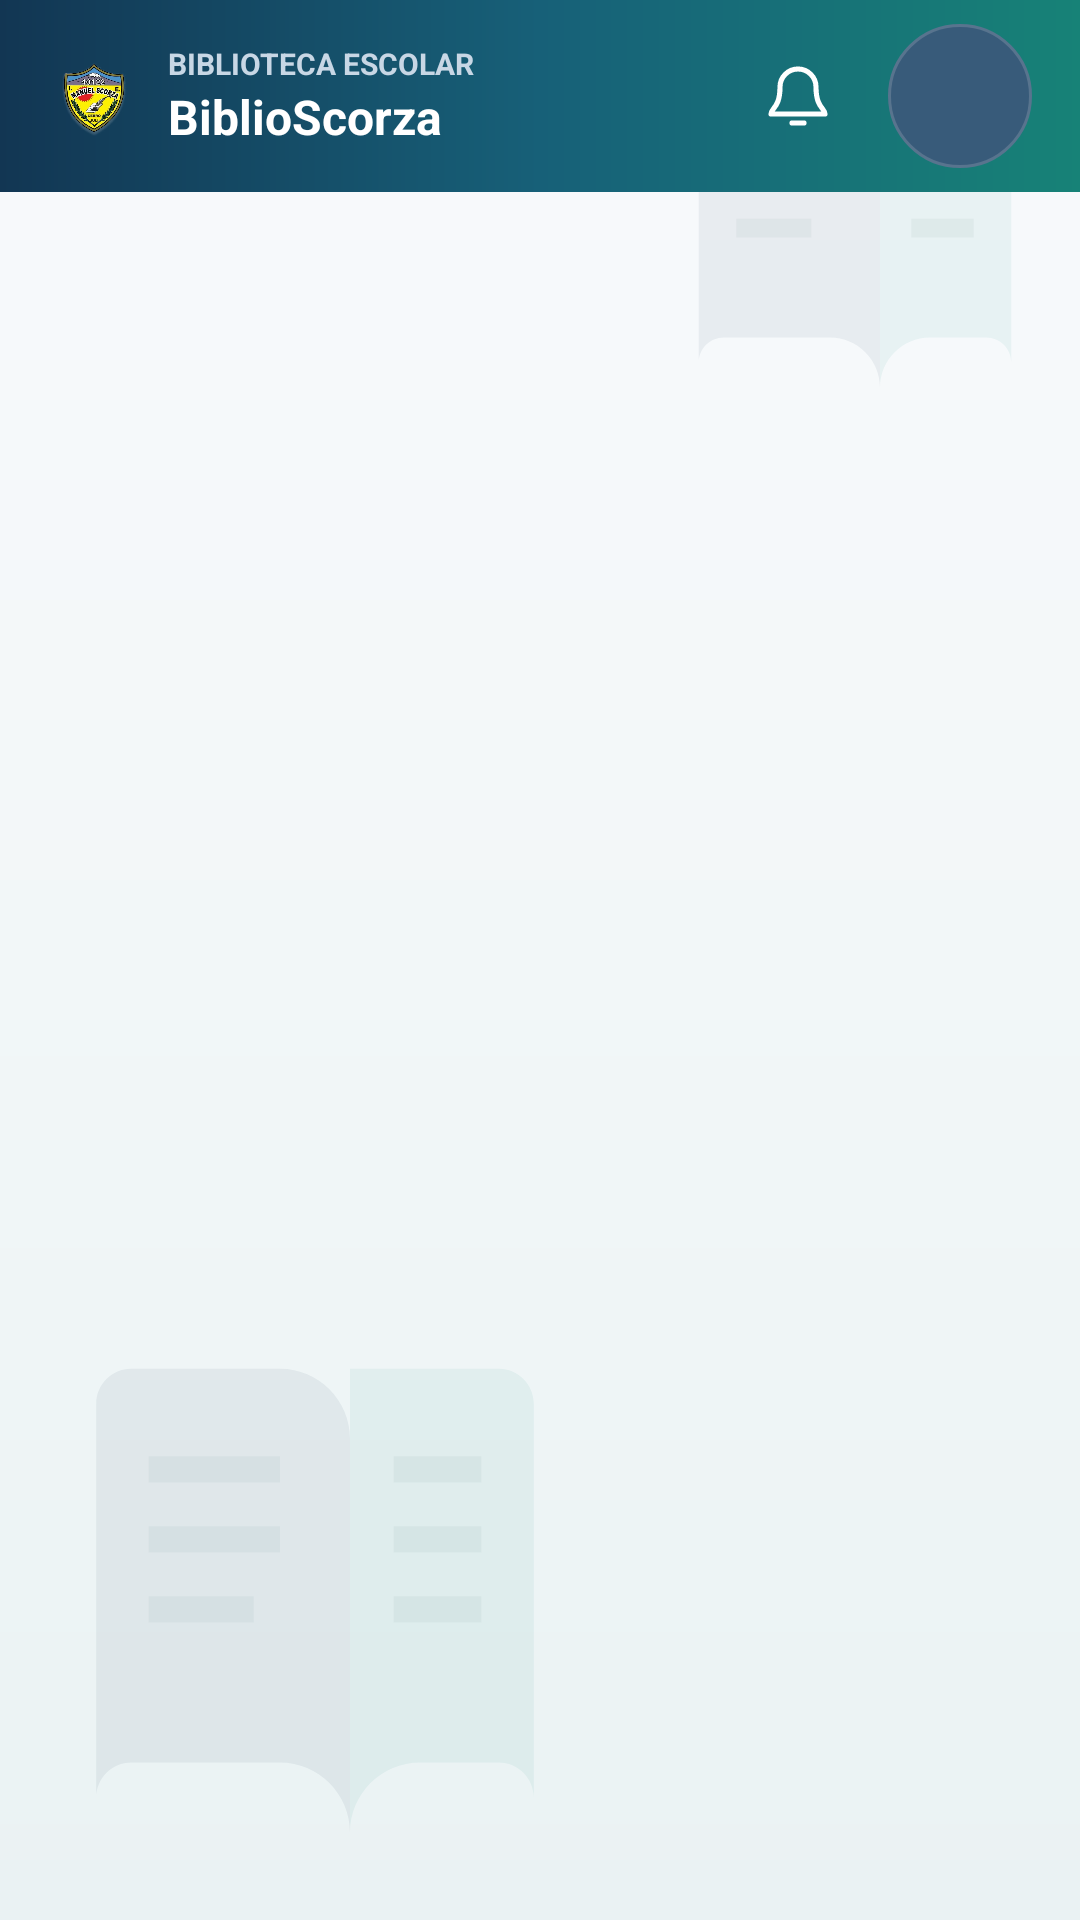

Point at icon controls on the screen. Image size 1080*1920, points as point (x, y).
notifications: point (798, 96)
